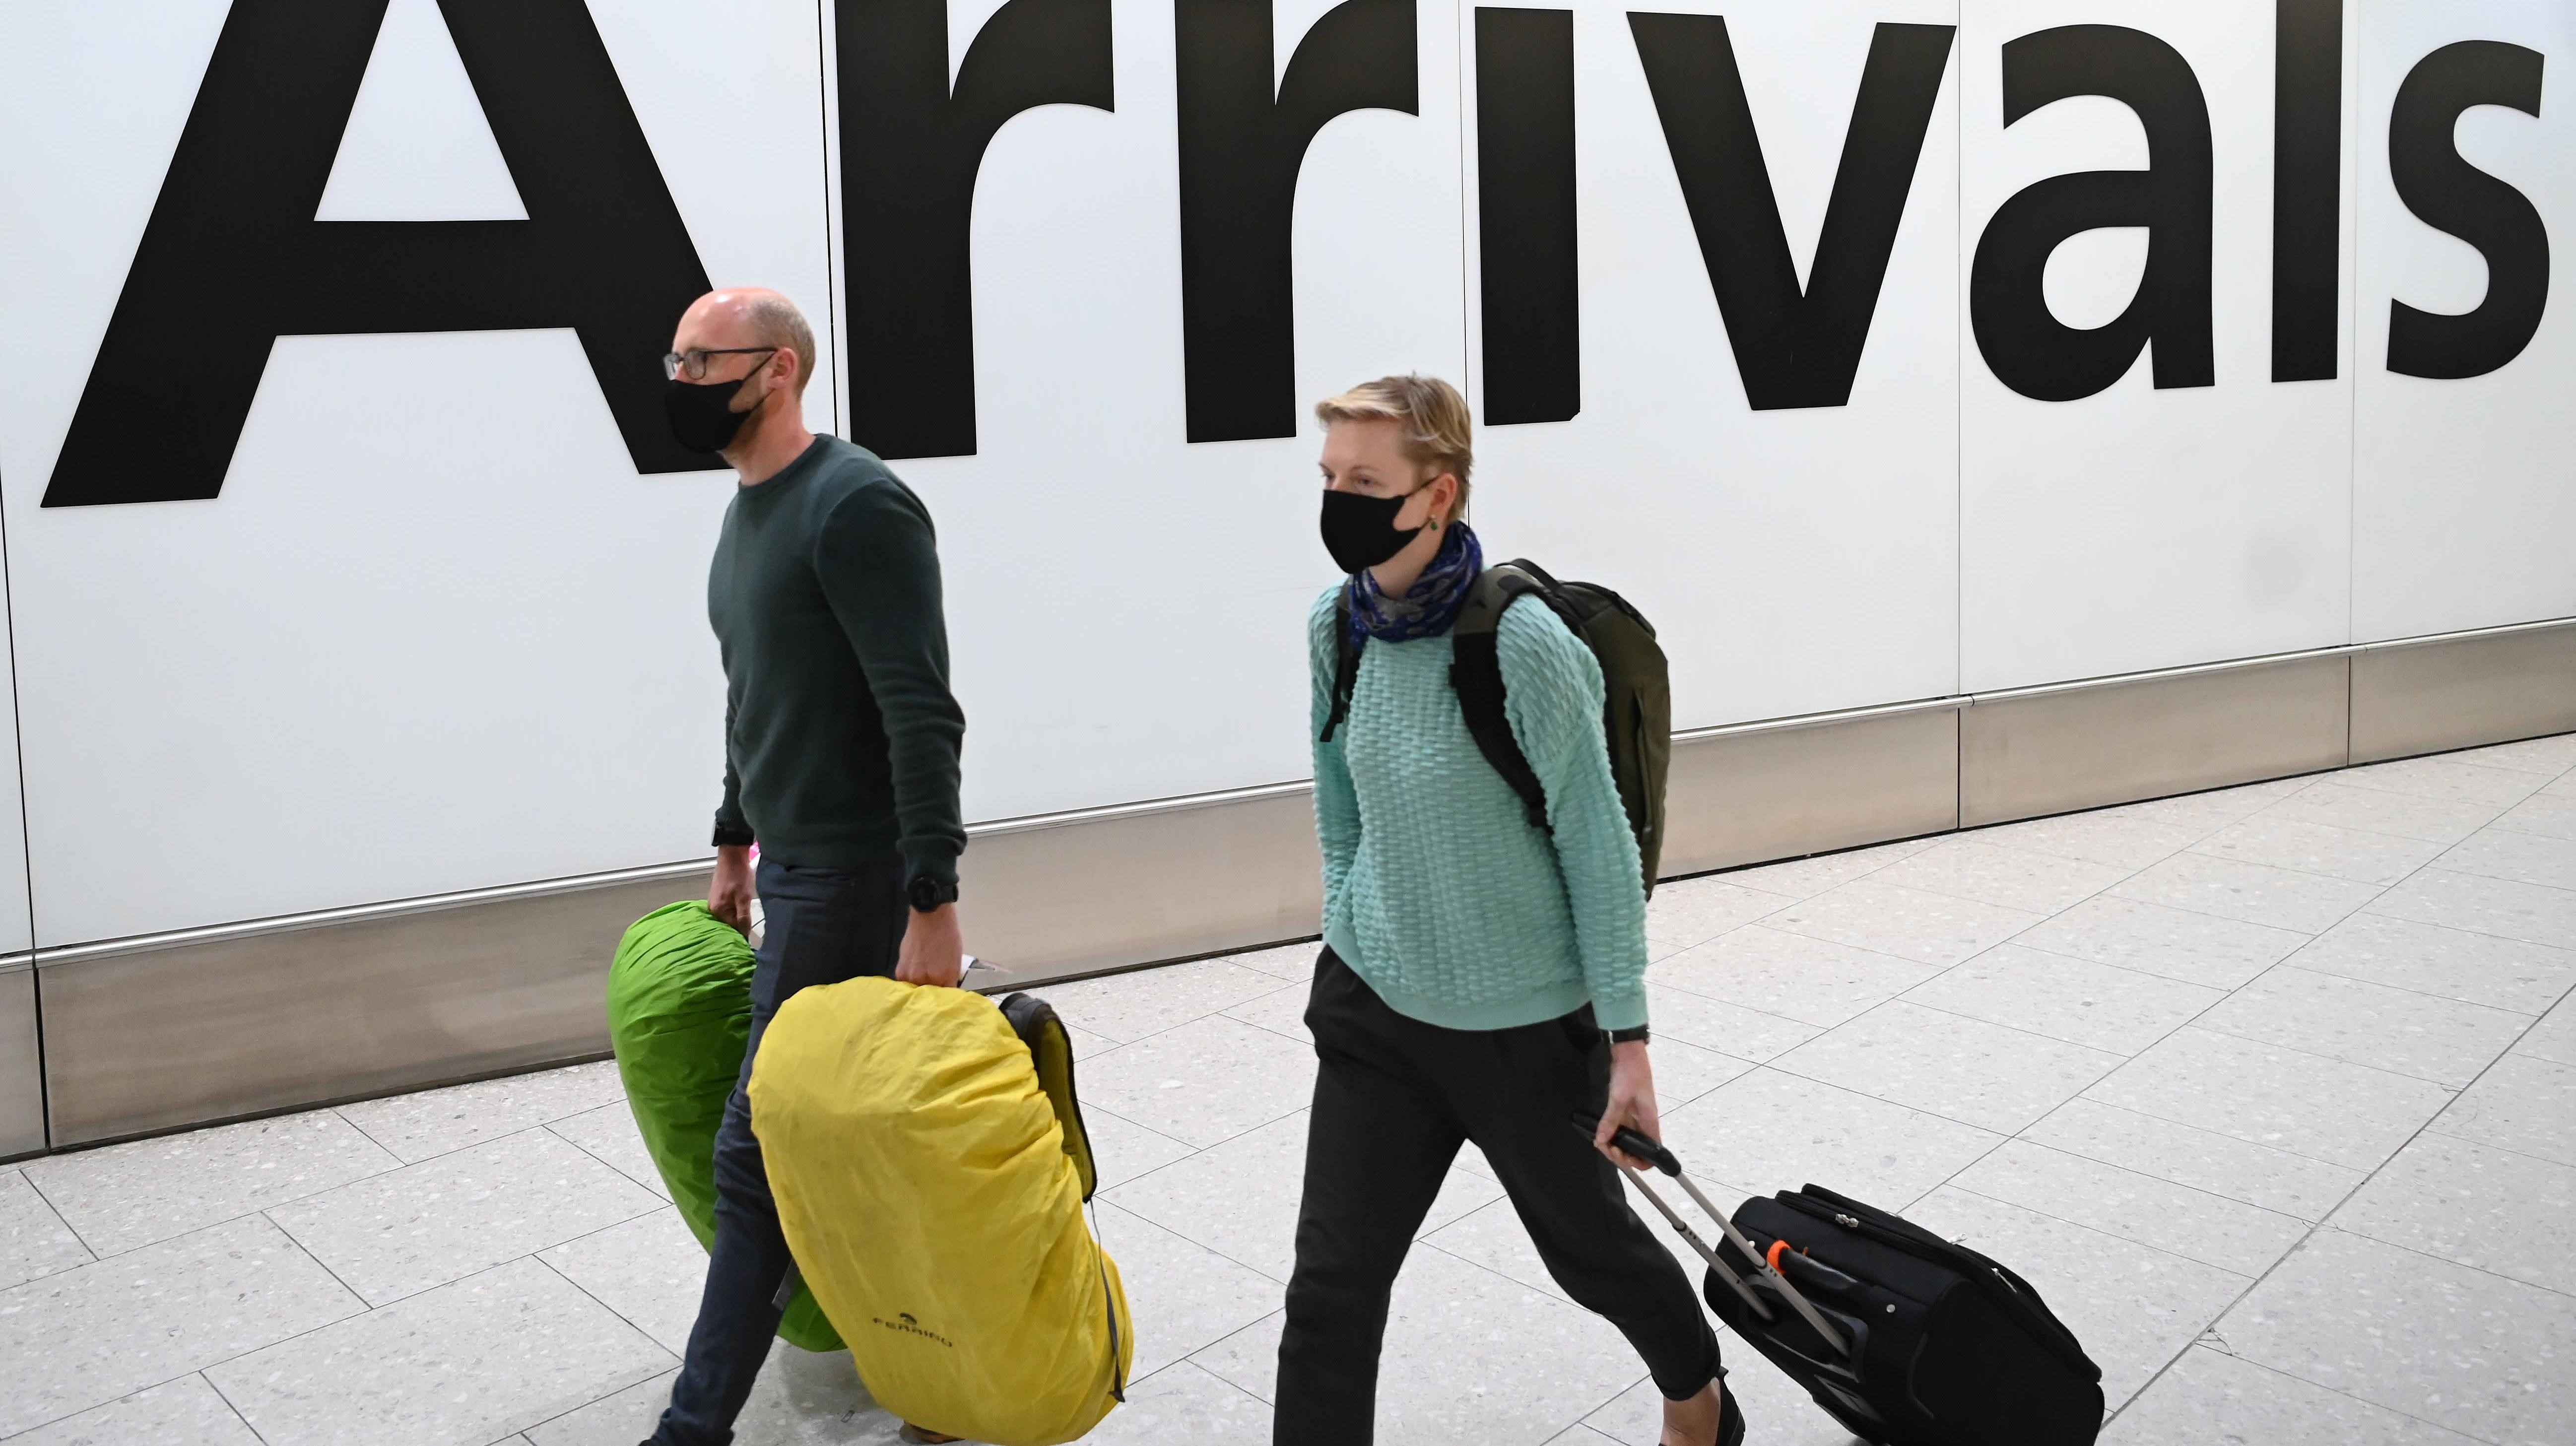face_with_mask: (1294, 374, 1468, 589), (660, 276, 825, 448)
